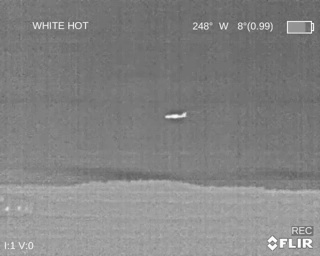AIRPLANE: (164, 111, 187, 120)
